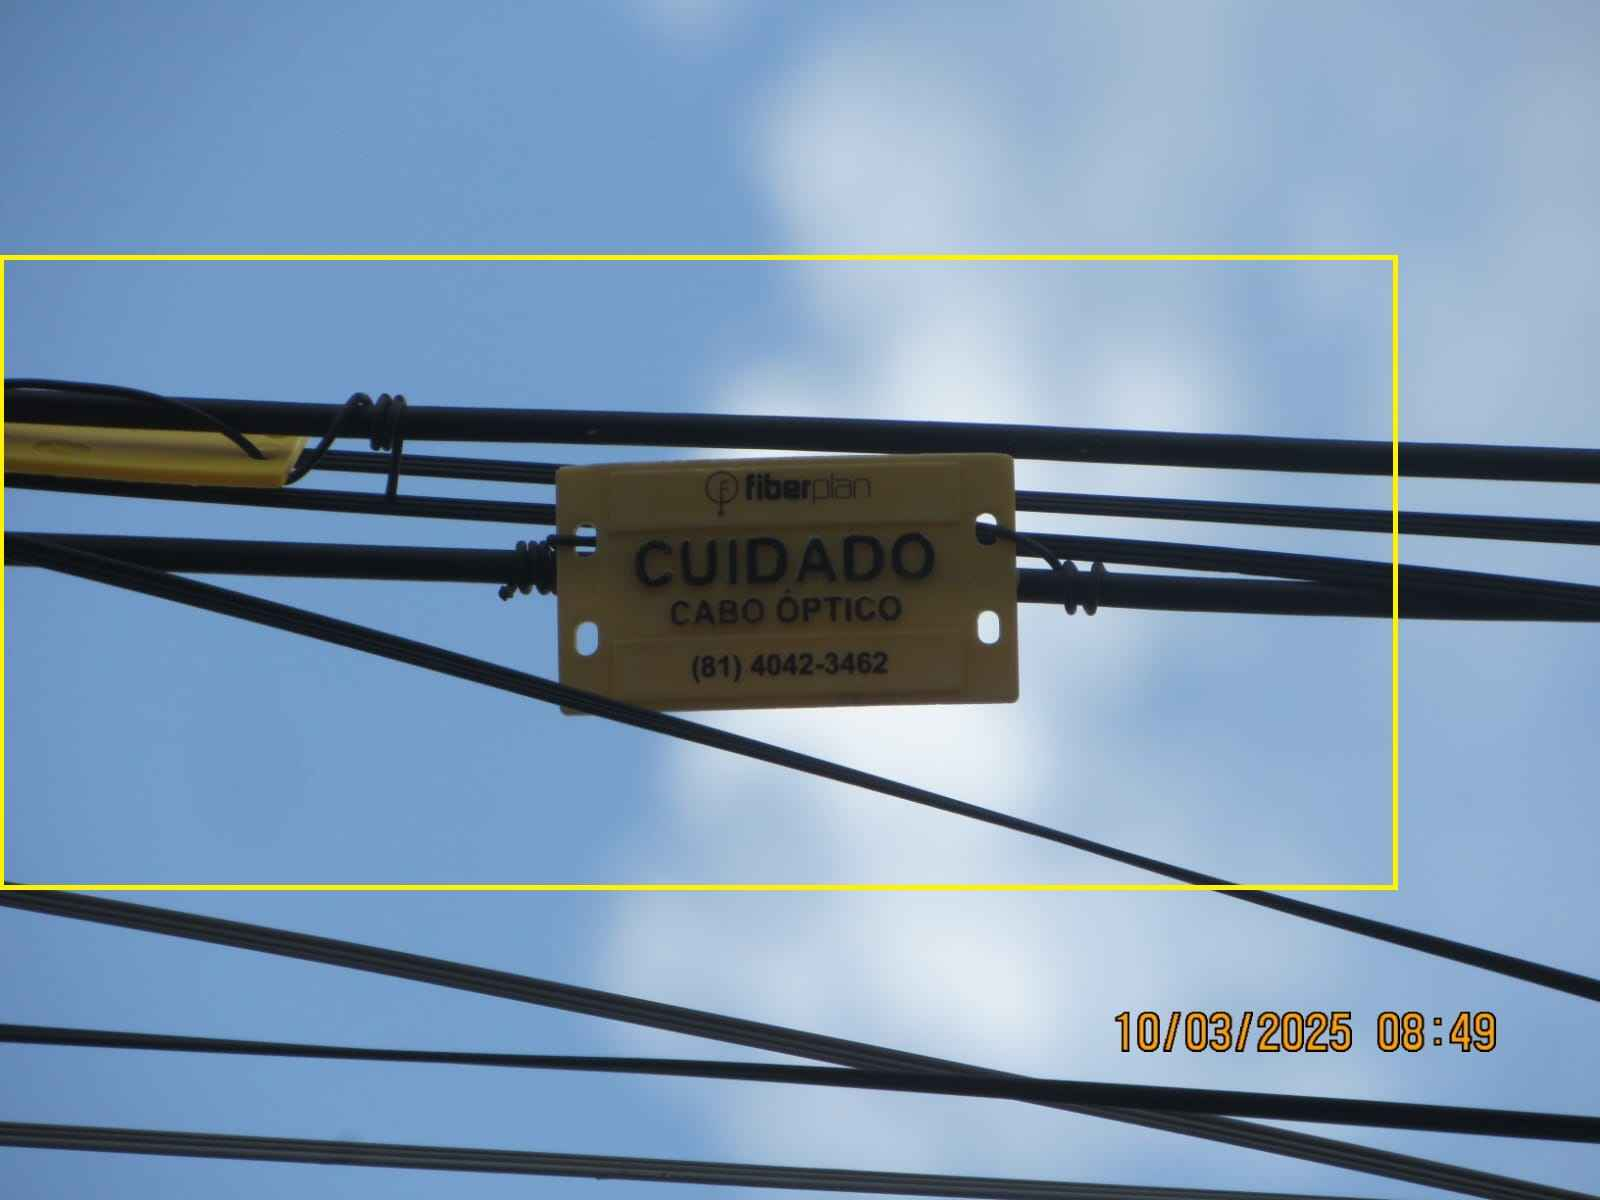fibra_optica: (519, 430, 1057, 720), (0, 404, 364, 509)
